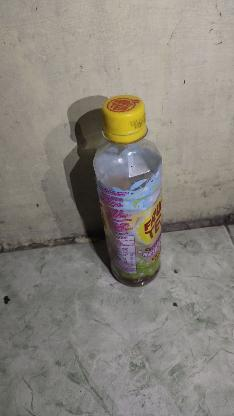Plastic Bottle: (93, 95, 163, 287)
